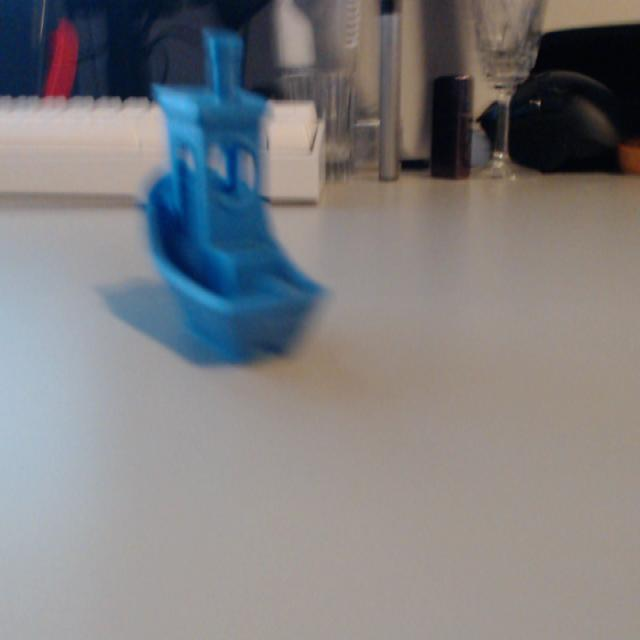benchy: (141, 24, 331, 365)
